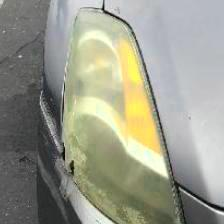head_lamp: (36, 80, 170, 223)
